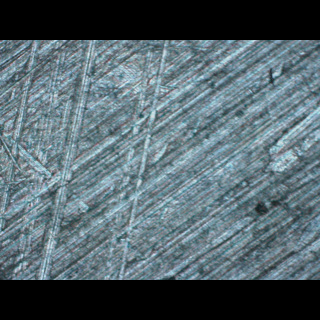d: (0, 41, 176, 280)
